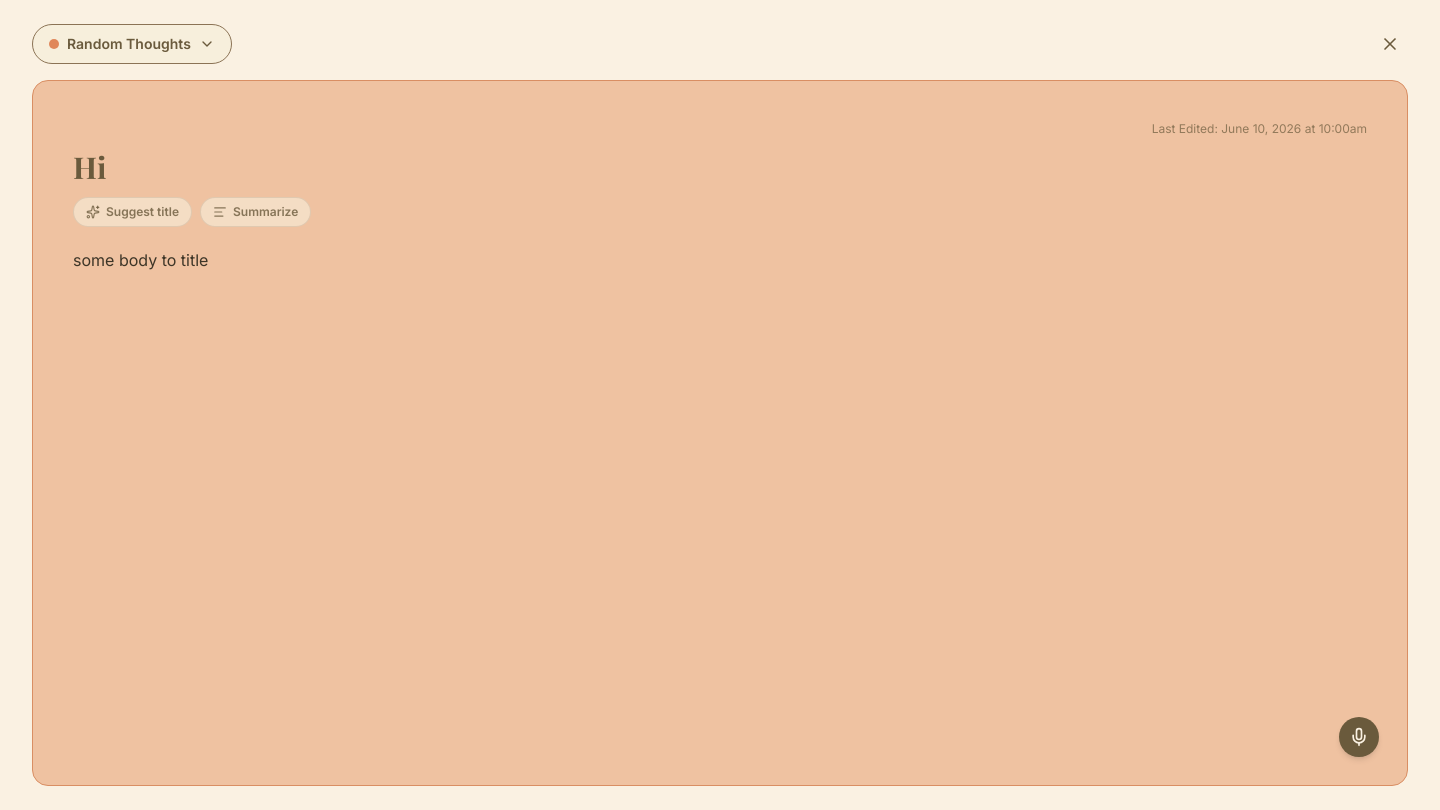
NoteEditor autosave › suggests a title and autosaves it when assist is enabled
Click the button with aria-label "suggest a title": click(132, 212) [73,197,192,227]
Wait 800 ms
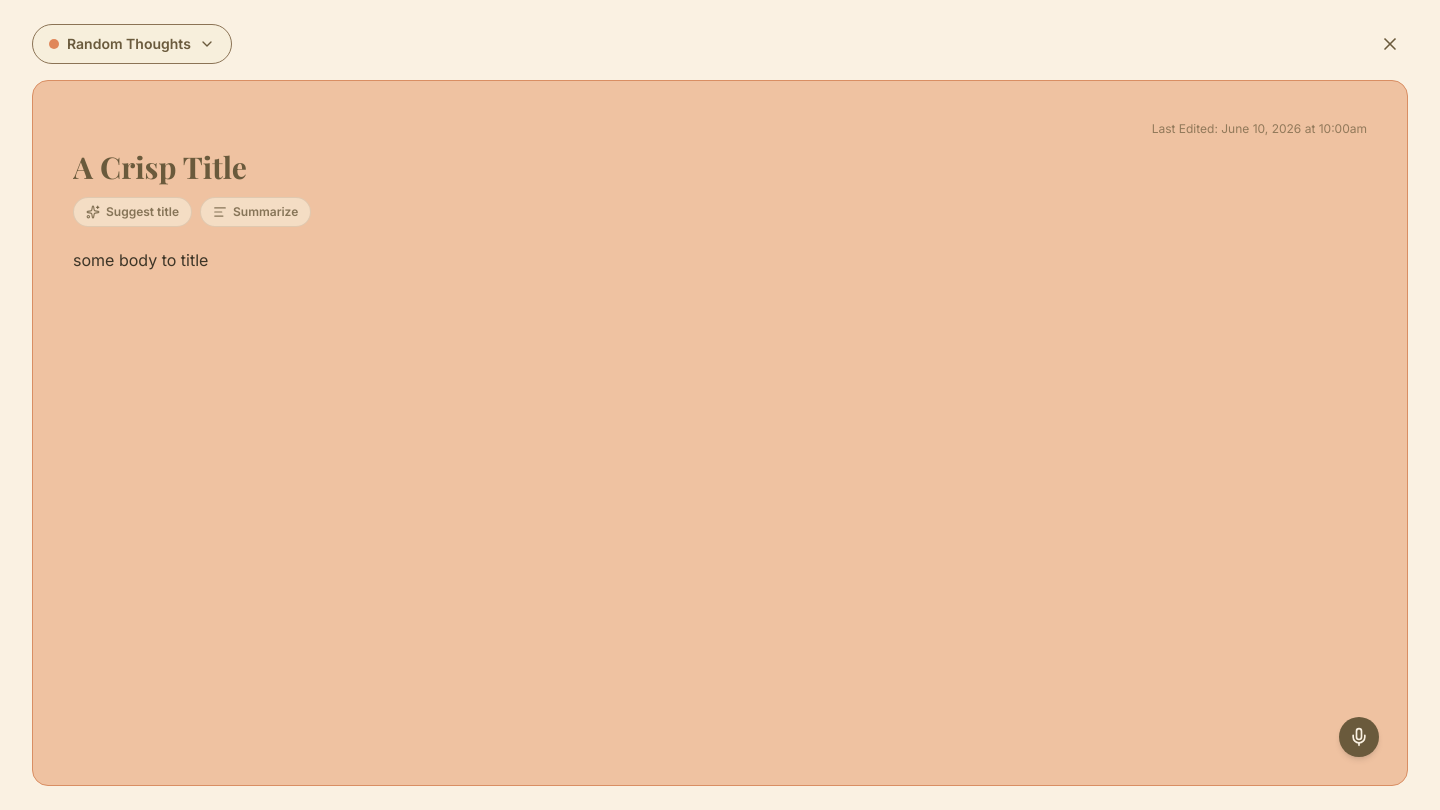
Now the field with placeholder "Note Title" holds "A Crisp Title", box [73,149,1367,185]
